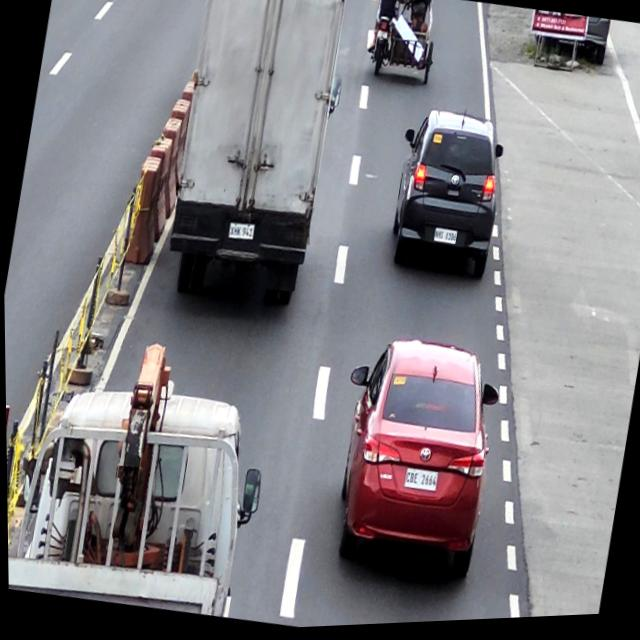Car: (315, 329, 508, 600), (380, 104, 513, 292)
License-Plate: (401, 469, 437, 498), (226, 222, 254, 244), (431, 229, 458, 250)
Tricycle: (362, 0, 444, 93)
Truck: (4, 318, 286, 629), (150, 0, 360, 329)
